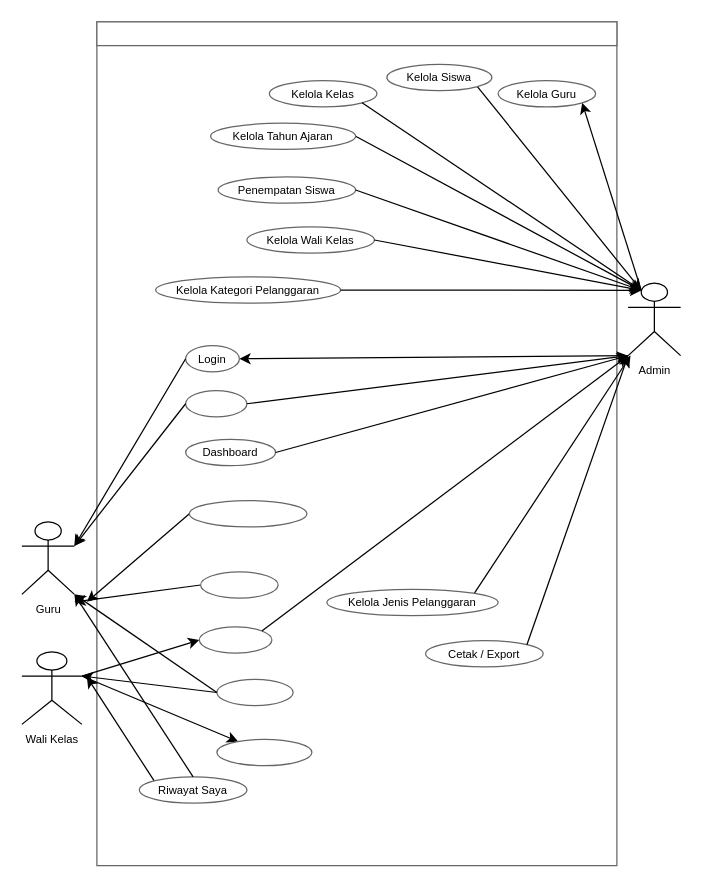
Image size: 703x888. Some labels were removed from this diagram. The box of each missing label's shape, as (x1, y1, x2, y2) in pixels:
Catat Pelanggaran: (188, 499, 307, 527)
Laporan: (198, 626, 272, 653)
Logout: (184, 389, 247, 417)
Rekap Poin: (216, 738, 312, 766)
Riwayat: (216, 678, 293, 706)
Sistem Informasi Pelanggaran Siswa: (96, 21, 617, 46)
Tindakan: (199, 571, 278, 598)
